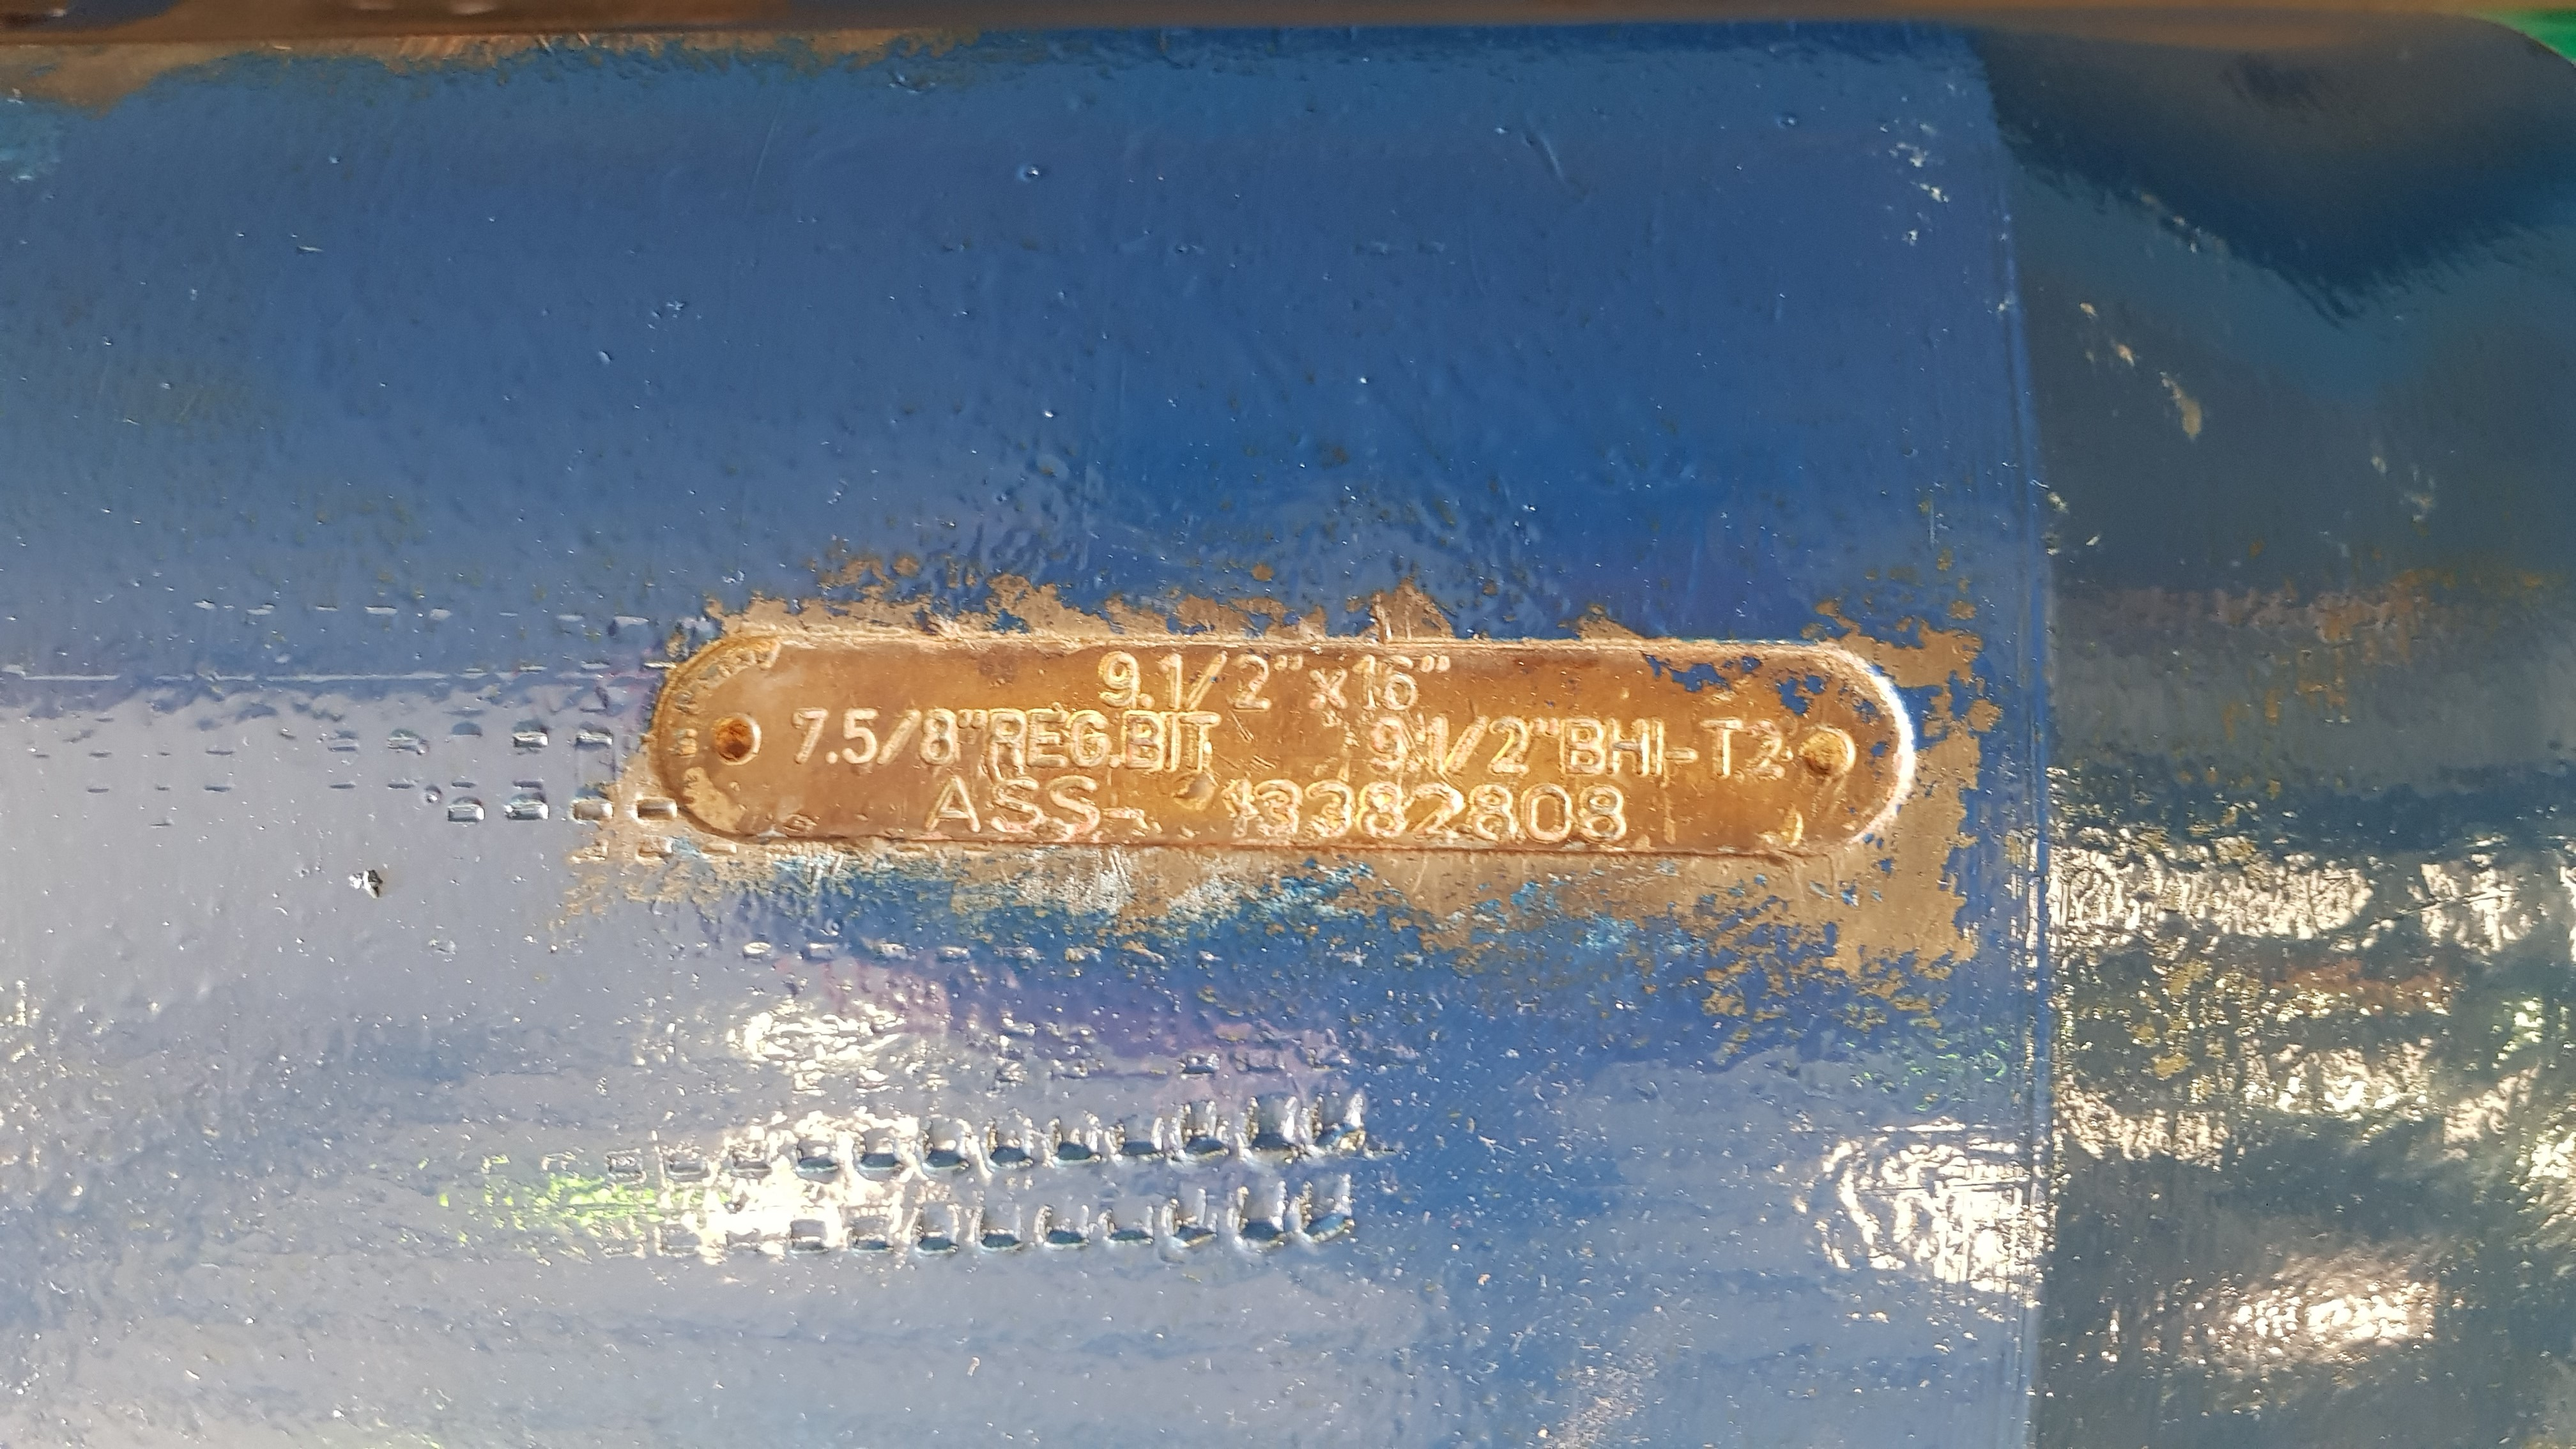character: (1573, 782, 1637, 846), (985, 775, 1047, 840), (927, 775, 987, 839), (1516, 782, 1573, 849), (1044, 771, 1100, 837), (1408, 778, 1465, 844), (1465, 782, 1522, 846), (1304, 777, 1357, 842), (1601, 715, 1649, 786), (1743, 709, 1787, 786), (1251, 775, 1302, 839), (1559, 717, 1608, 780), (1118, 711, 1166, 775), (1357, 778, 1405, 842), (1486, 715, 1532, 780), (1700, 718, 1746, 784), (1231, 651, 1281, 711), (1024, 704, 1069, 771), (1067, 706, 1111, 771), (1155, 651, 1198, 713), (784, 704, 826, 766), (1095, 651, 1143, 706), (920, 704, 959, 771), (985, 706, 1023, 773), (1178, 711, 1217, 775), (1447, 715, 1488, 775), (1187, 648, 1224, 711), (1306, 662, 1353, 711), (1369, 720, 1408, 780), (1378, 655, 1419, 711), (1417, 715, 1453, 778), (840, 709, 876, 770), (1645, 720, 1674, 793), (1219, 777, 1253, 837), (1350, 651, 1382, 713), (1157, 718, 1180, 775), (1100, 805, 1150, 823)
